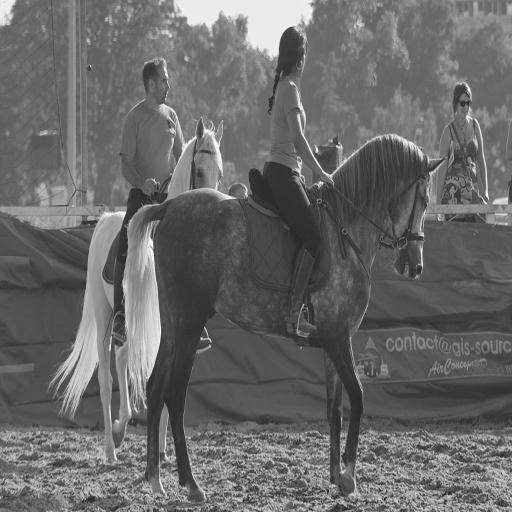horse: (122, 134, 448, 506), (48, 118, 226, 466)
